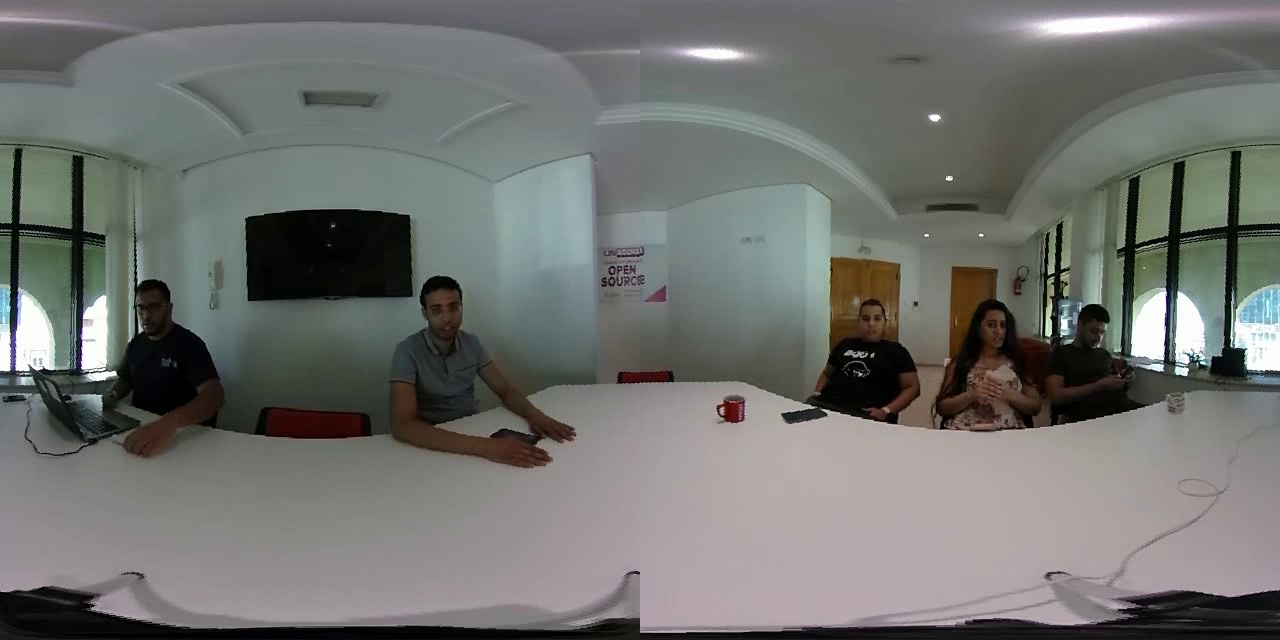person: (95, 256, 222, 437), (379, 270, 506, 444), (929, 287, 1041, 445), (804, 284, 916, 430), (1040, 298, 1130, 431)
